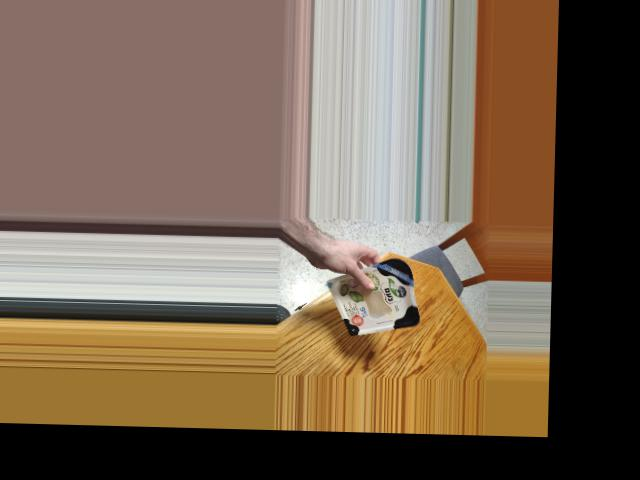cheese: (340, 259, 418, 335)
